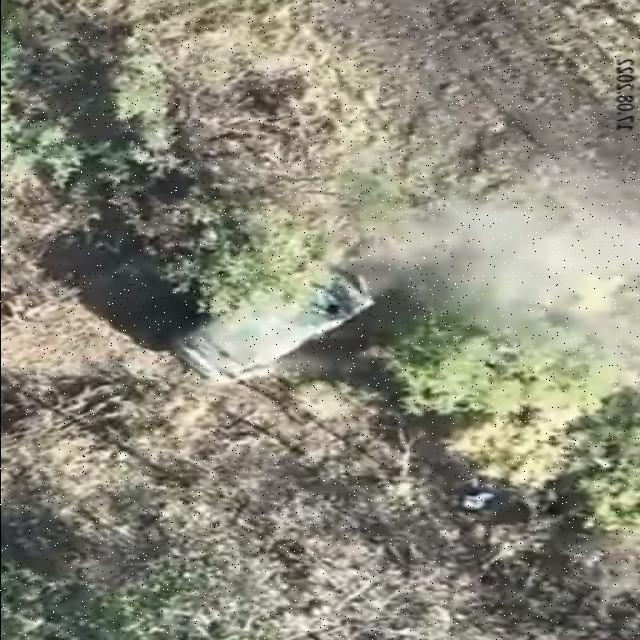CAR: (165, 264, 382, 386)
